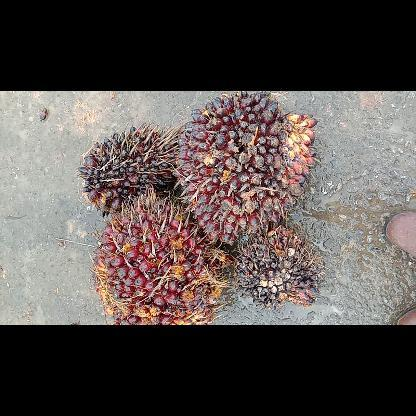Kurang masak: (178, 90, 318, 244)
TBS abnormal: (77, 123, 177, 213), (234, 224, 322, 308)
TBS masak: (94, 191, 228, 324)
